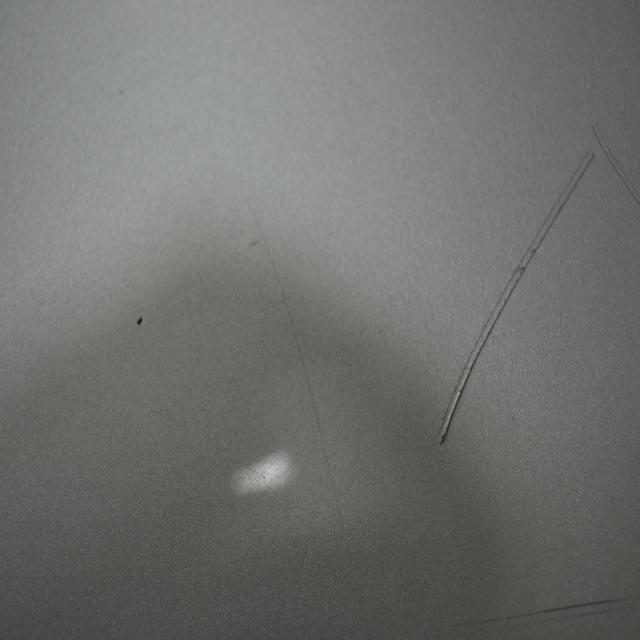dirt: (135, 310, 143, 325)
scratch: (431, 141, 602, 444), (235, 181, 358, 561), (452, 594, 640, 636), (585, 106, 640, 208)
